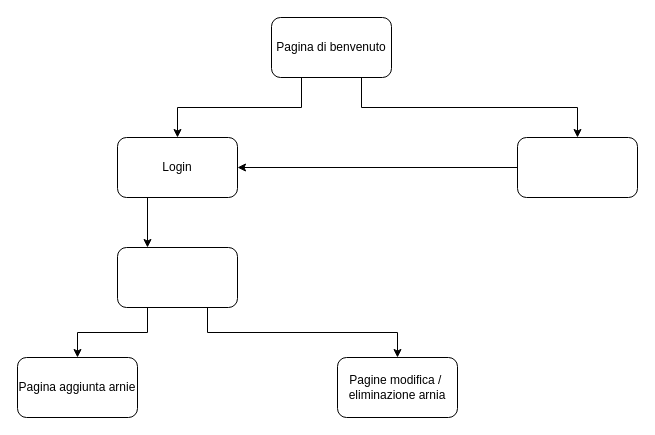
Some shapes in this 655 by 435 pixel diagram are drawn without their labels. The shapes that lost their labels are listed below. From the top down, each one's centre as x and y in pixels, then its label:
At (577,167): "Registrazione".
At (177,277): "Pagina home".
